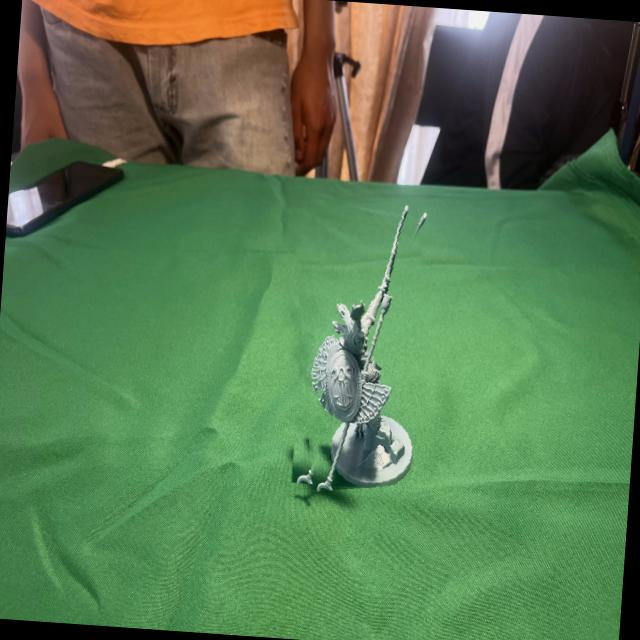isis: (282, 195, 446, 495)
